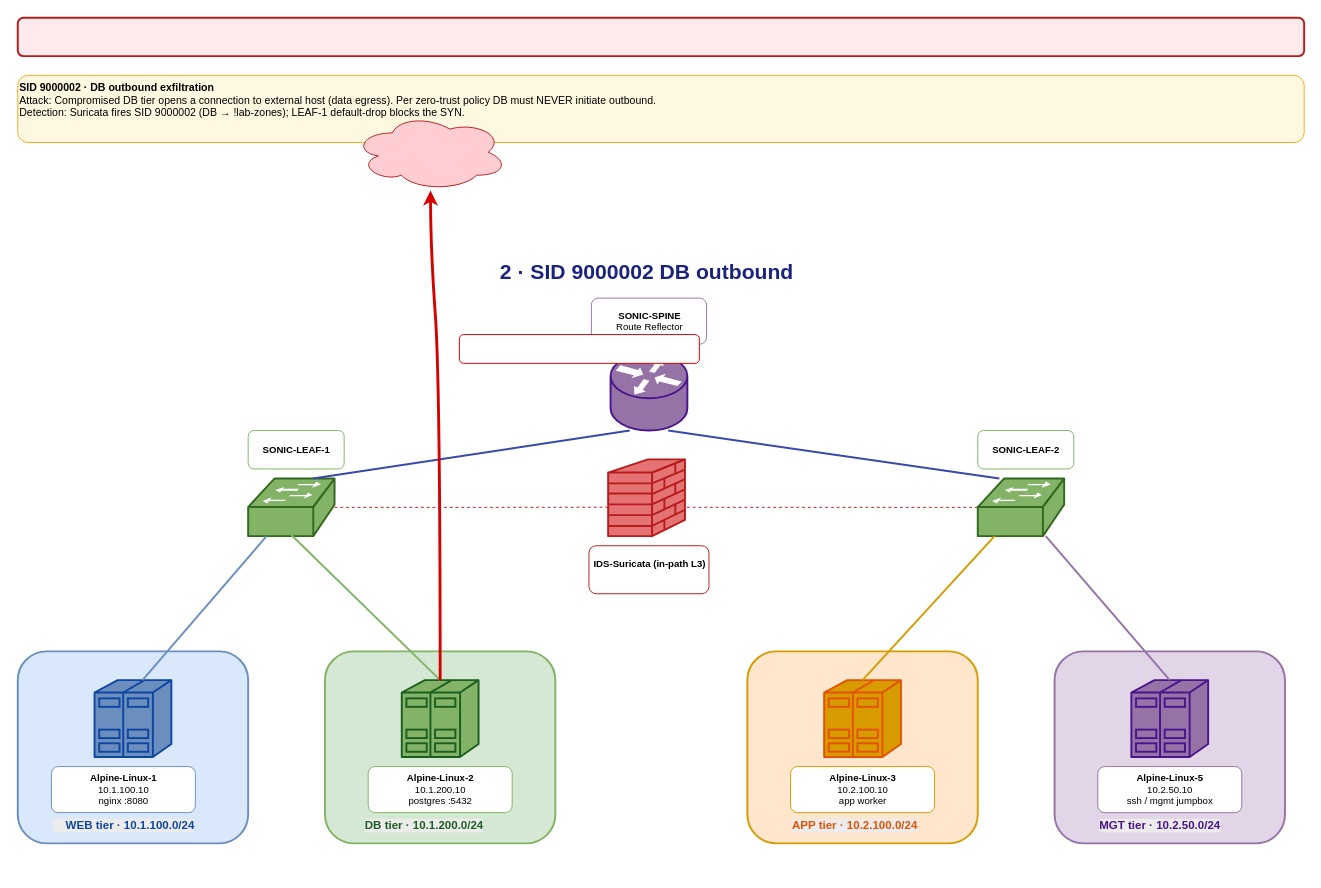
The diagram is 1321 pixels wide and 888 high, and some of its shapes have lost their labels. Each missing label, with the centre of its shape:
"DB initiates outbound (exfiltration)" goes at point (578, 348).
"External / Internet (not allowed)" goes at point (430, 152).
"SCENARIO 2 — DB Exfiltration (SID 9000002)" goes at point (660, 36).
